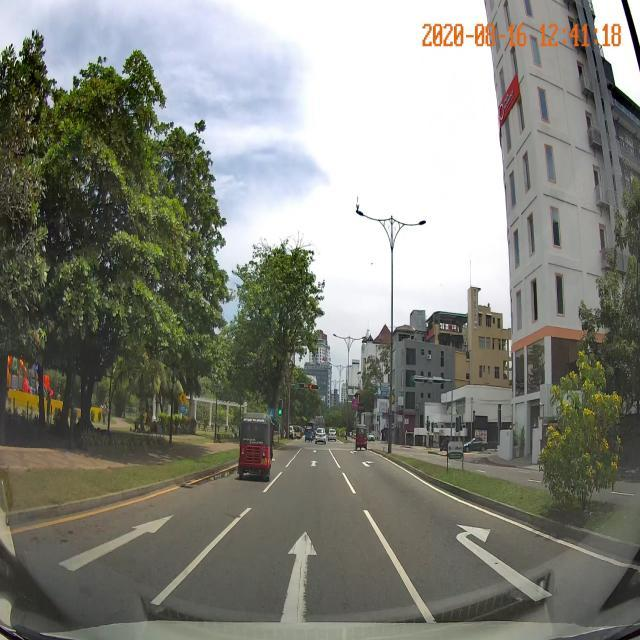forward: (137, 503, 443, 621)
